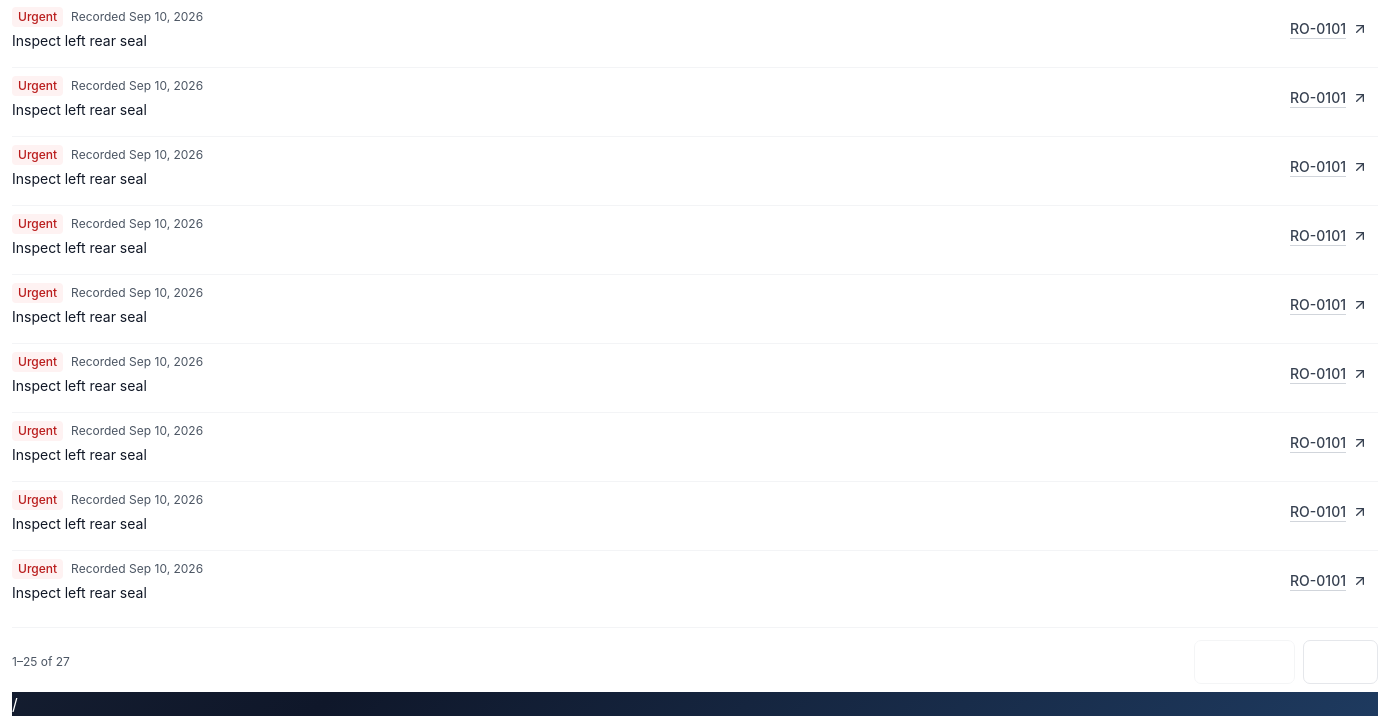
it: truck recommendation continuity › pages beyond 25, retains distinct recommendations with matching descriptions and permits a failed-page retry
This screenshot has width=1390, height=716.
(page scrolled)
Check: the text "1–25 of 27" is shown, box left=12, top=654, right=70, bottom=670
Click the button "Next": (1341, 662) left=1303, top=640, right=1378, bottom=684
(page scrolled)
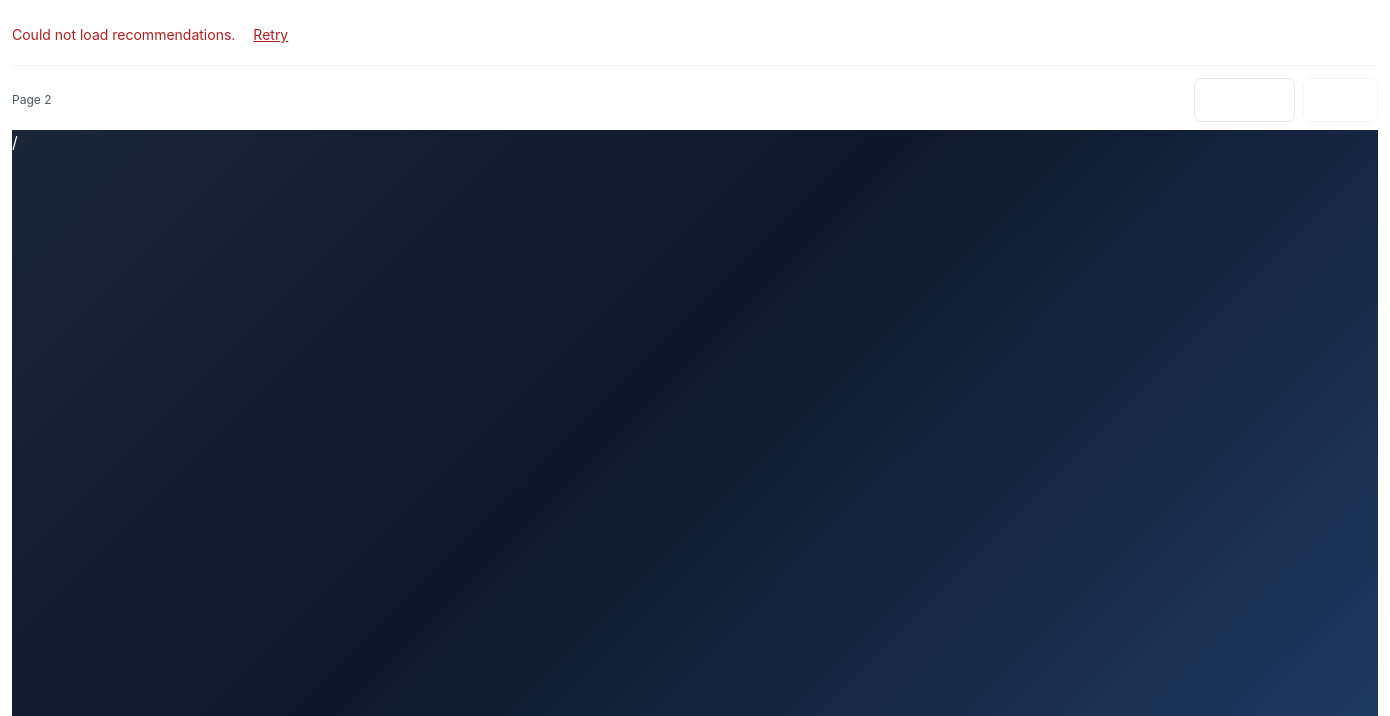
Check: the button "Previous" is enabled, box left=1194, top=78, right=1295, bottom=122
Check: the message shows "Could not load recommendations.", box left=12, top=26, right=235, bottom=43
Click the button "Retry": (271, 35) left=243, top=13, right=298, bottom=57
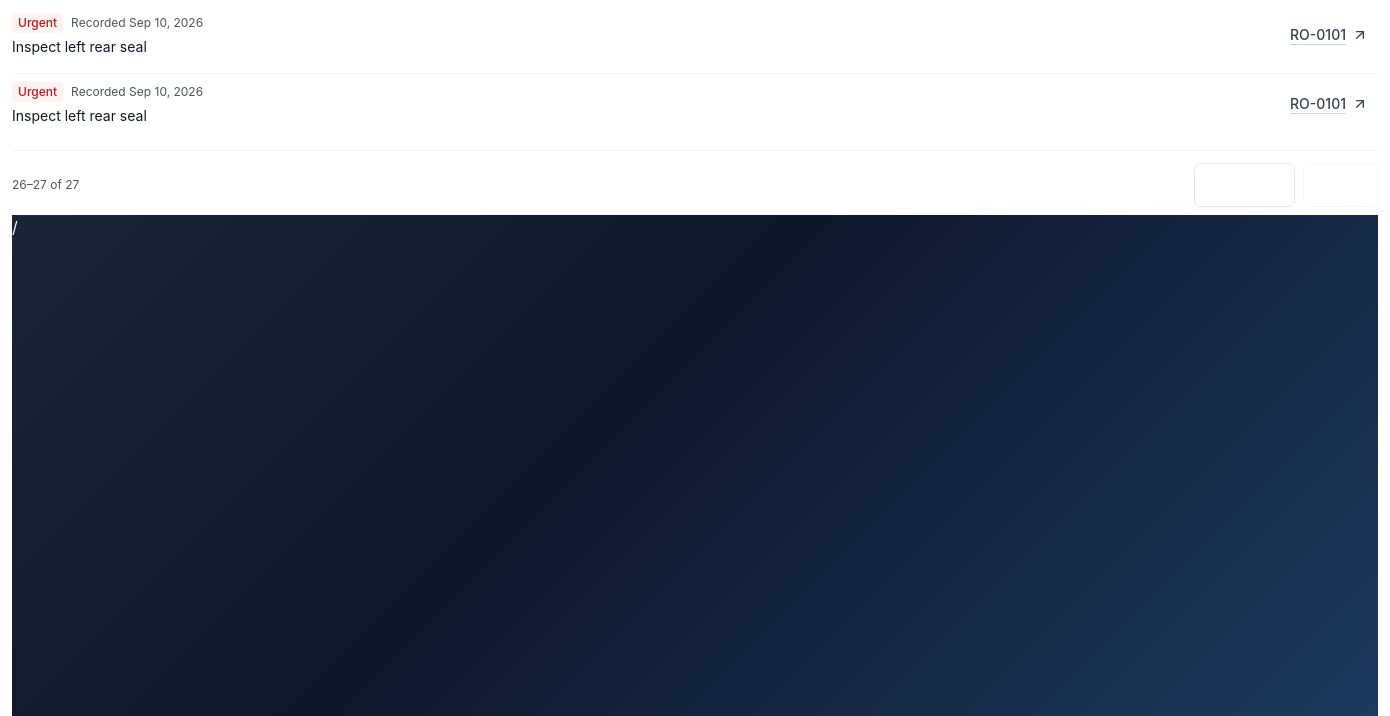
Check: the text "26–27 of 27" is shown, box left=12, top=177, right=79, bottom=193
